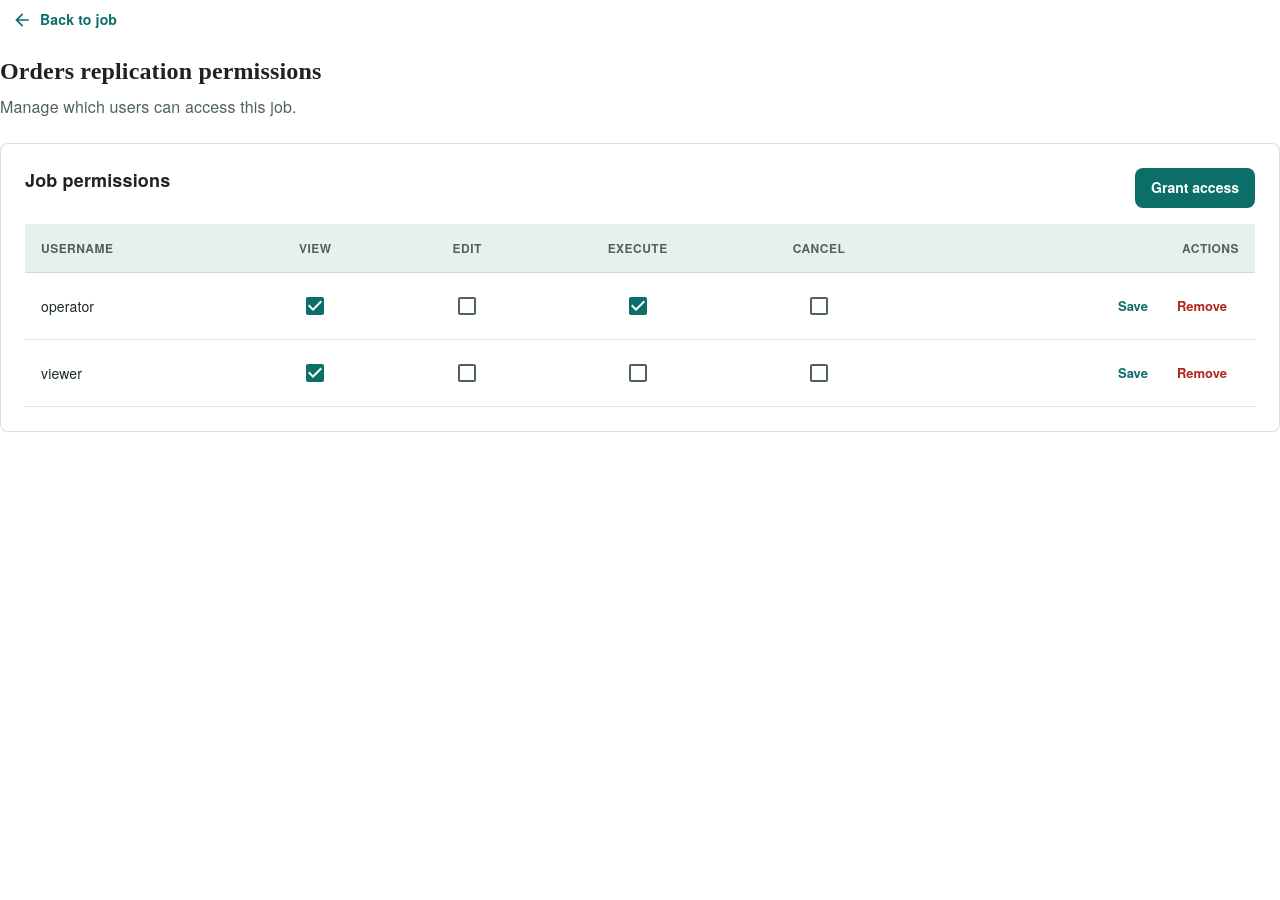
Test: JobPermissionsPage › keeps the grant dialog open when saving permissions fails
Click the button "Grant access" at point(1195, 188), box [1135,168,1255,208]
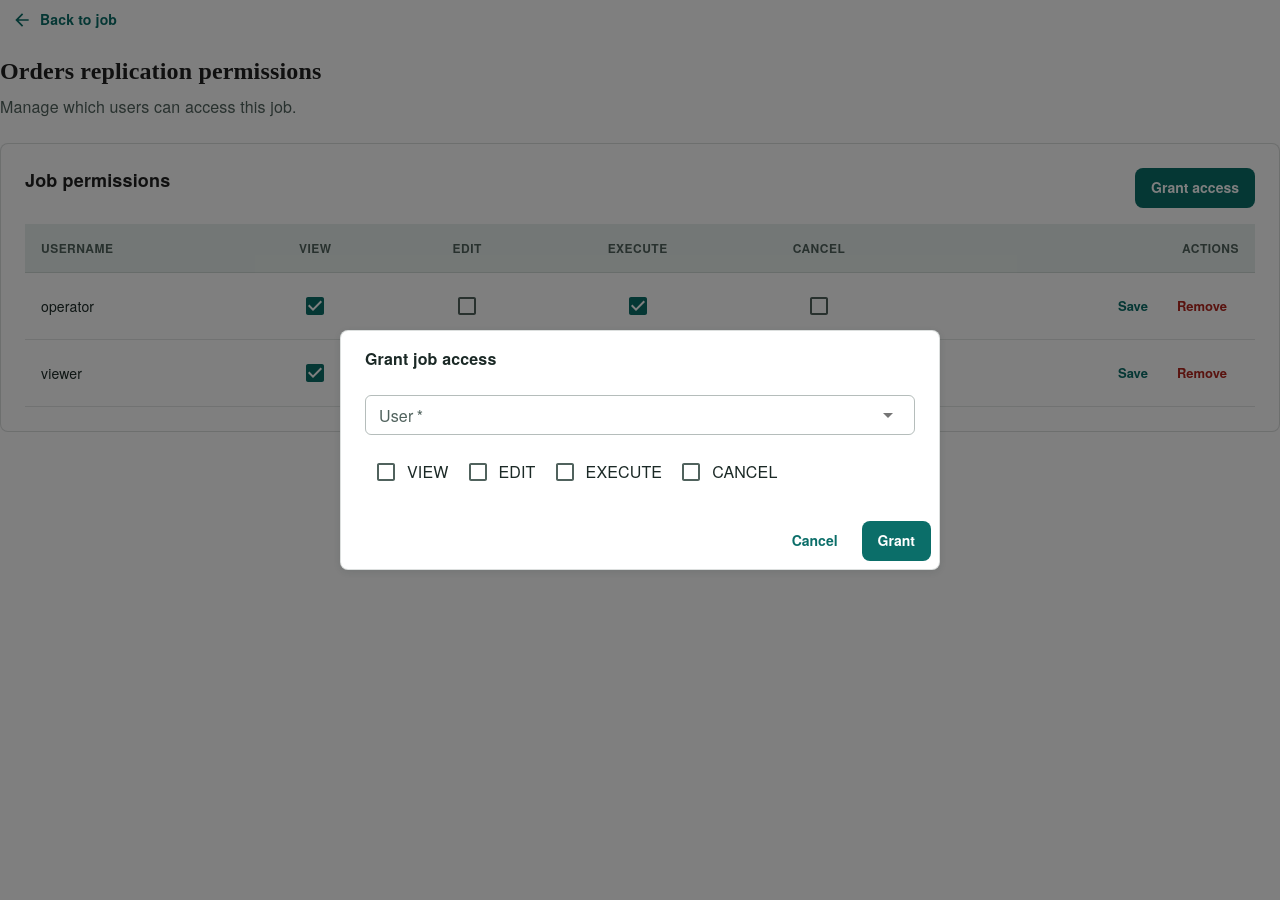
Press the mouse on the dropdown labelled "User" at point(624, 415), box [371,401,876,429]
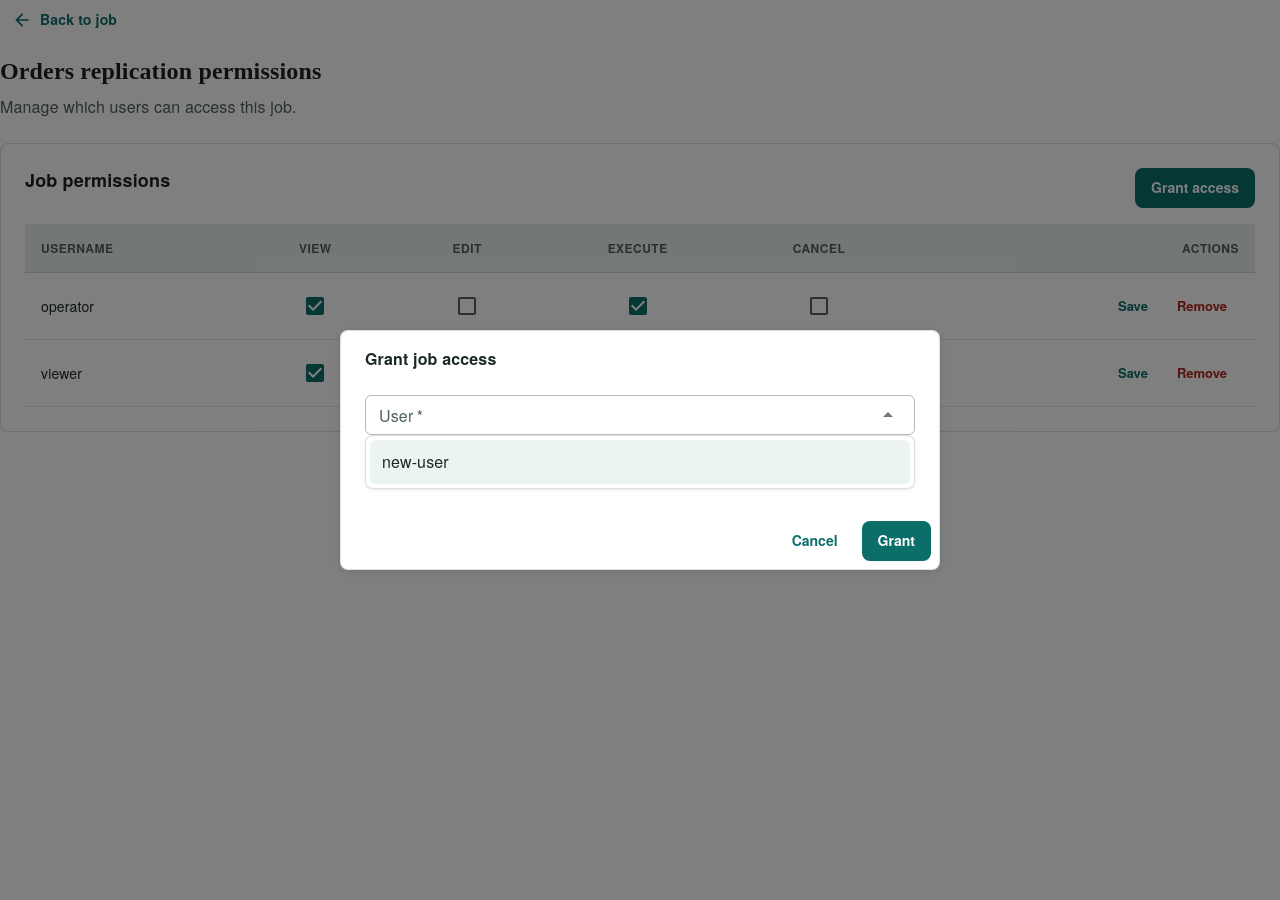
Click the option "new-user" at point(415, 462), box [370,440,910,484]
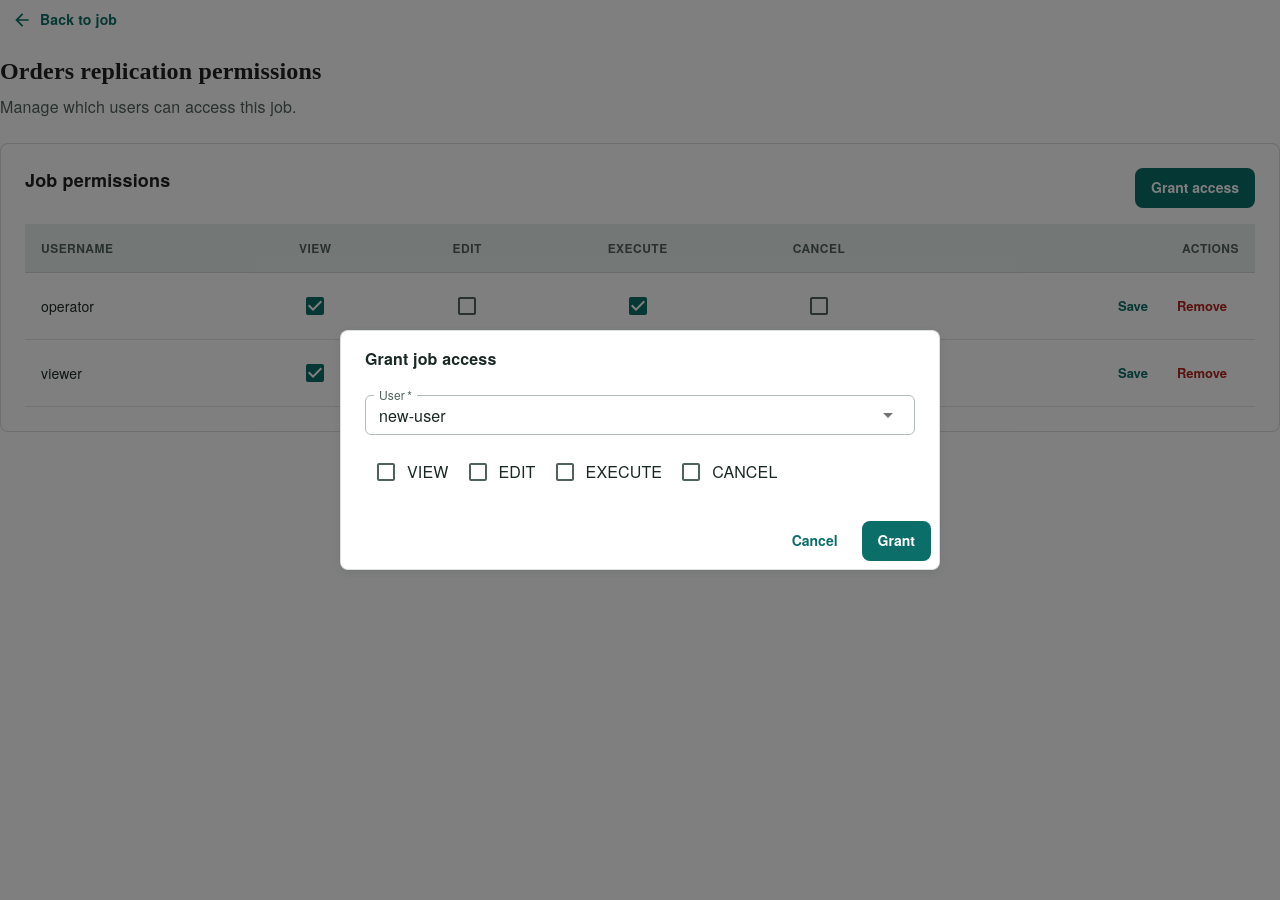
Click the button "Grant" at point(896, 541), box [862,521,931,561]
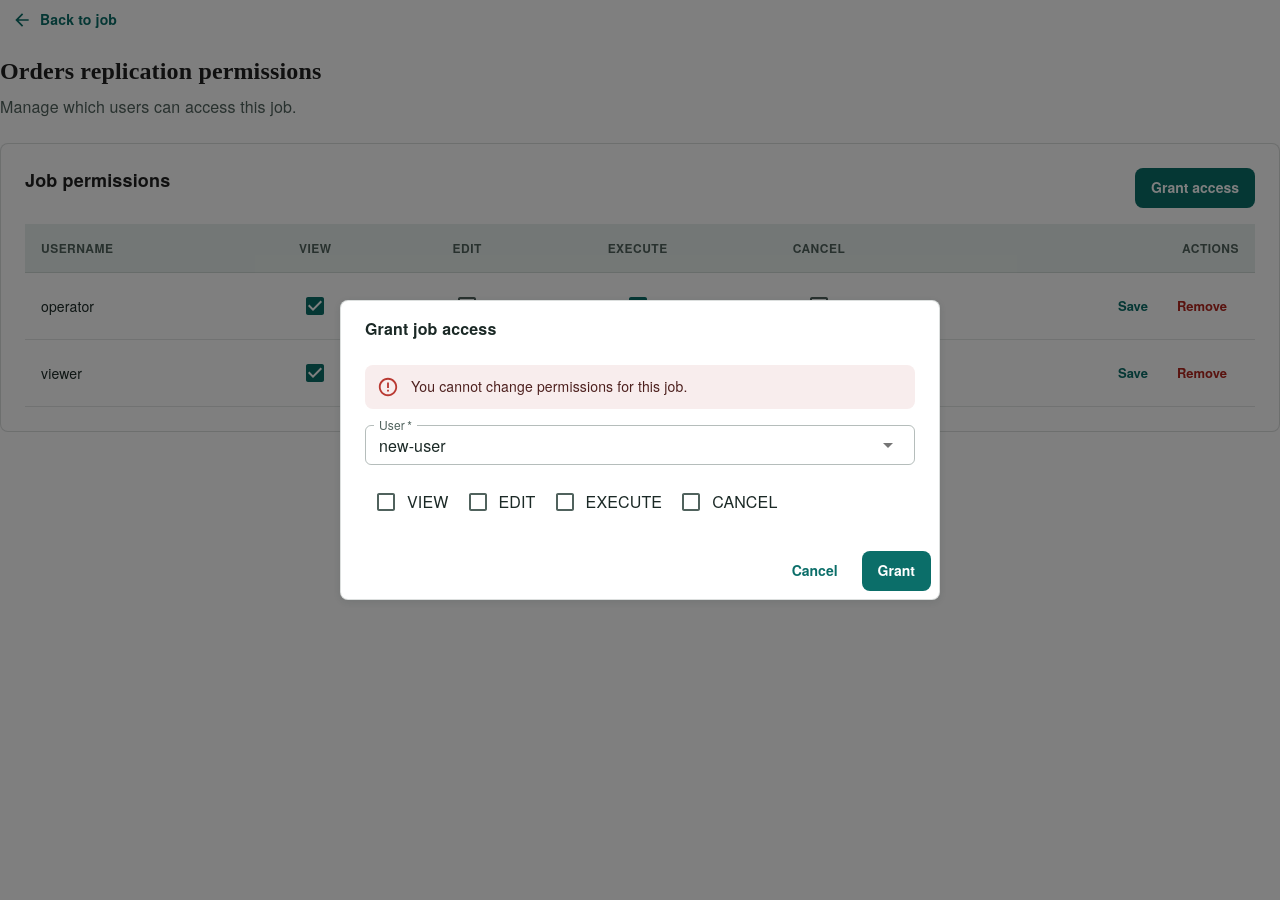
Check: the dialog is shown, box [340,300,940,600]
Check: the text "You cannot change permissions for this job." is shown, box [411,373,688,399]
